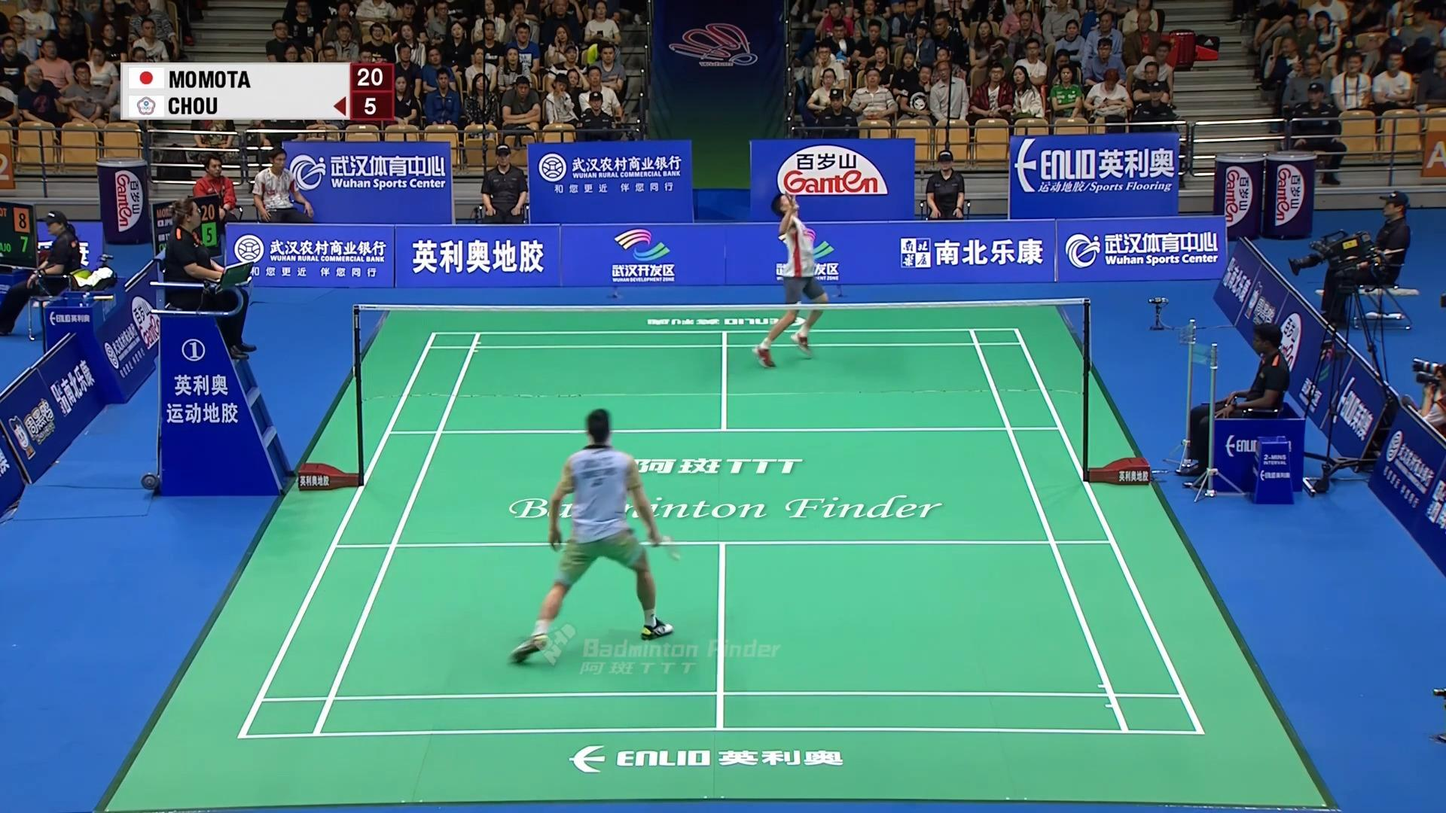player: (513, 410, 673, 665), (754, 189, 827, 370)
